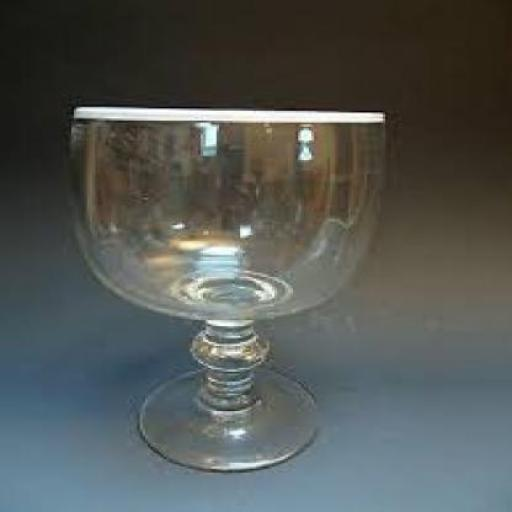glass: (69, 104, 383, 472)
